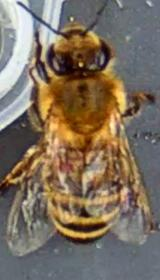varroa_mite: (42, 156, 74, 176)
